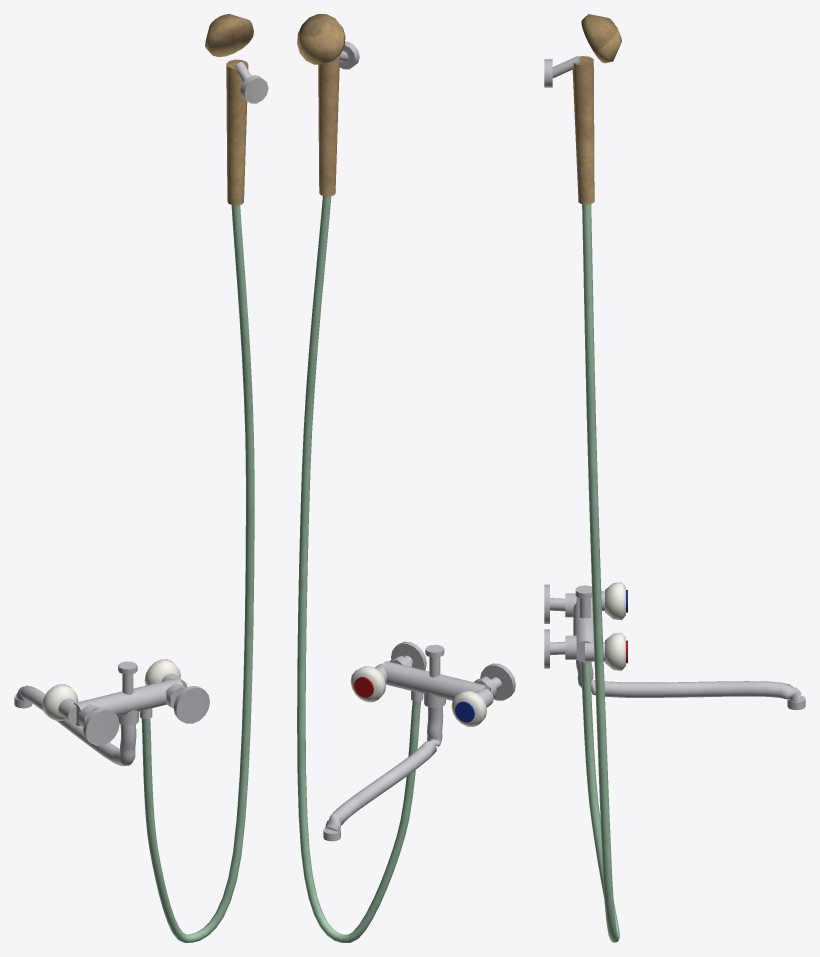
File: faucet_bath_shower_web.glb
3 views of the same model, side by side, from view 1: azimuth 30°, elevation 25°; view 2: azimuth 150°, elevation 25°; view 3: azimuth 270°, elevation 25° (orthographic). The views are drawn at different scales.
Parts seen in each view (by area): view 1: Chrome_Shower, Chrome_FaucetBath, Chrome_Spout; view 2: Chrome_Shower, Chrome_FaucetBath, Chrome_Spout; view 3: Chrome_Shower, Chrome_FaucetBath, Chrome_Spout.
Part boxes in pixels (x1,y1,x2,y2): Chrome_Shower: [141, 14, 268, 942]; Chrome_FaucetBath: [42, 659, 209, 745]; Chrome_Spout: [14, 685, 138, 766]; Chrome_Shower: [297, 14, 420, 942]; Chrome_FaucetBath: [350, 641, 515, 726]; Chrome_Spout: [323, 692, 445, 841]; Chrome_Shower: [544, 14, 621, 942]; Chrome_FaucetBath: [544, 582, 627, 670]; Chrome_Spout: [576, 660, 805, 710].
Bounding box in the file's own units: 0.3307 × 1.47 × 0.371.
6 materials, 6 textured.
